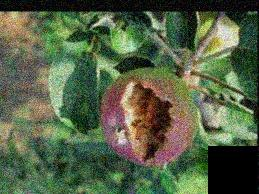rotten apple: (100, 68, 204, 167)
